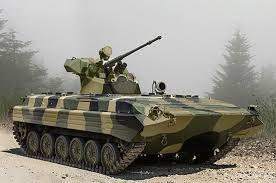tank: (10, 36, 258, 174)
